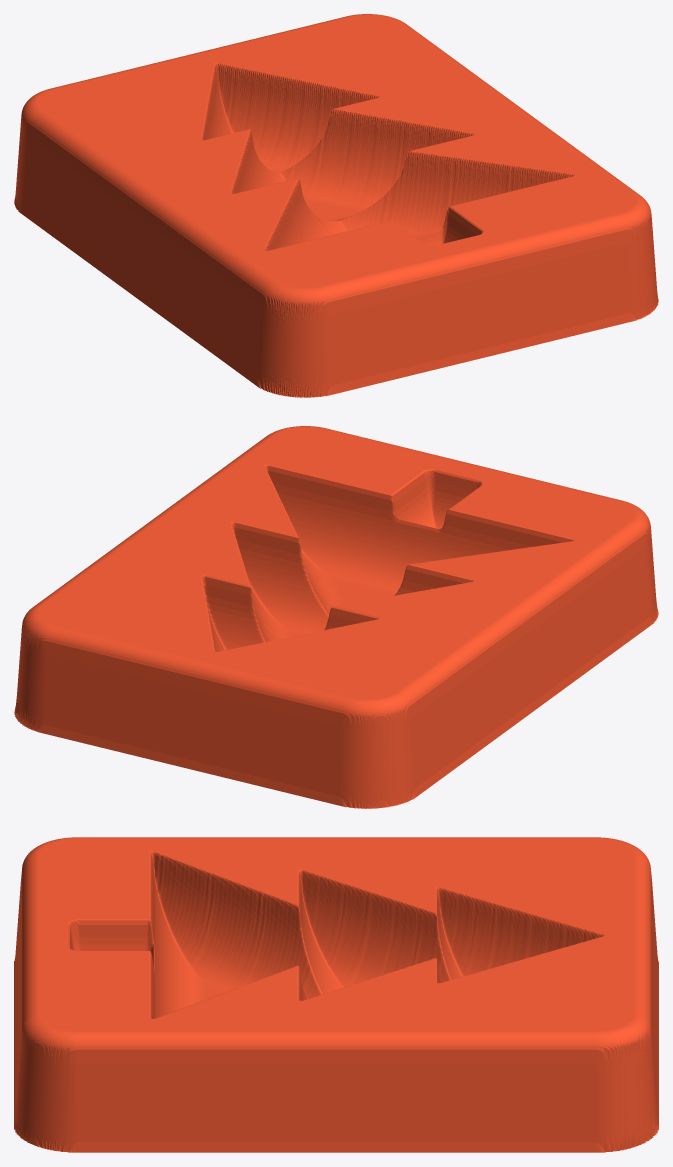
The model's file is mold.glb.
3 views of the same model, one above another, from view 1: azimuth 30°, elevation 25°; view 2: azimuth 150°, elevation 25°; view 3: azimuth 270°, elevation 25° (orthographic). The views are drawn at different scales.
Visible parts, largest first — view 1: geometry_0; view 2: geometry_0; view 3: geometry_0.
Boxes of the visible parts, x1,y1,x2,y2 form: geometry_0: (14,14,658,397); geometry_0: (14,426,658,808); geometry_0: (14,837,658,1152).
Size of the model in its own units: 0.0724 by 0.0175 by 0.0924.
